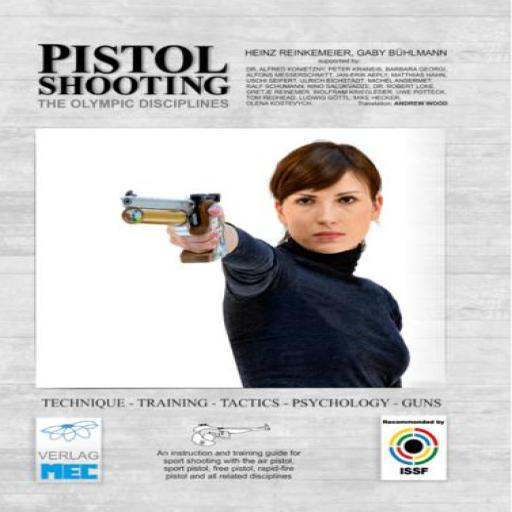shooting: (163, 139, 413, 390)
